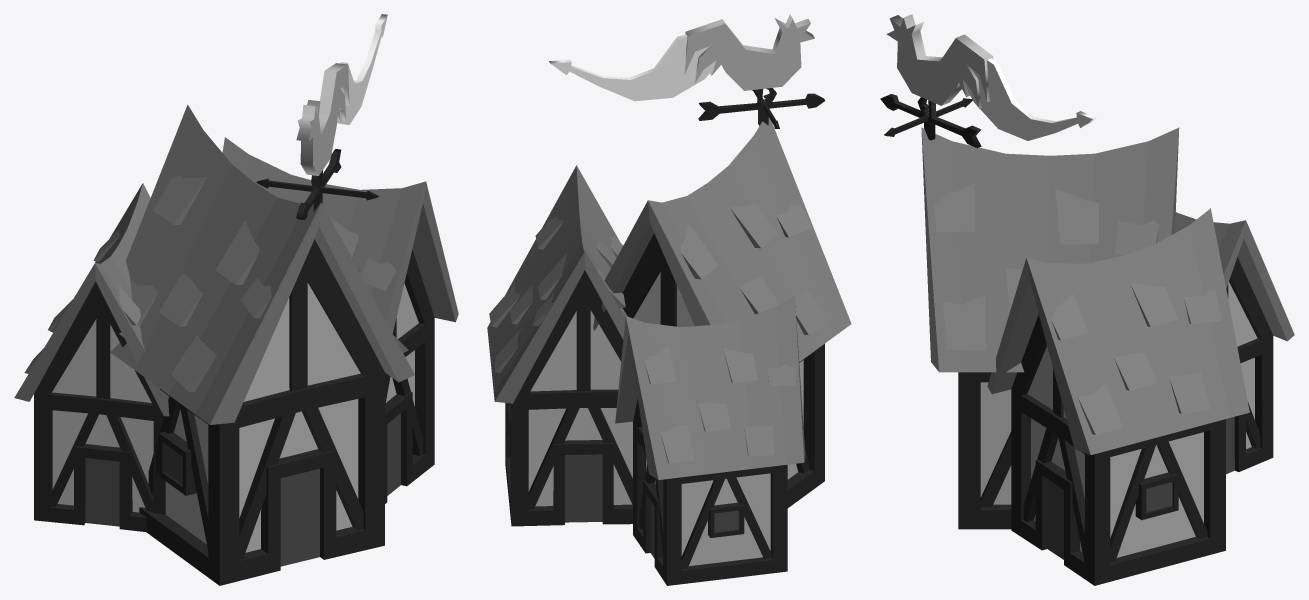
Rendered from largeTown.glb.
3 views of the same model, side by side, from view 1: azimuth 30°, elevation 25°; view 2: azimuth 150°, elevation 25°; view 3: azimuth 270°, elevation 25° (orthographic). The views are drawn at different scales.
Visible parts, largest first — view 1: LargeTown; view 2: LargeTown; view 3: LargeTown.
Part boxes in pixels (x1=…): LargeTown: x1=14, y1=14, x2=458, y2=585; LargeTown: x1=487, y1=14, x2=851, y2=585; LargeTown: x1=880, y1=14, x2=1294, y2=585.
Bounding box in the file's own units: 2.55 × 2.97 × 2.39.
1 material, 1 textured.
